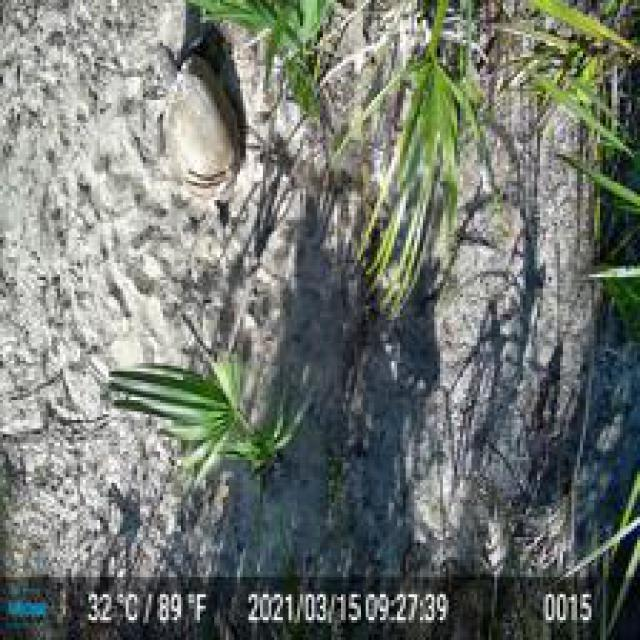tortoise: (148, 40, 243, 200)
